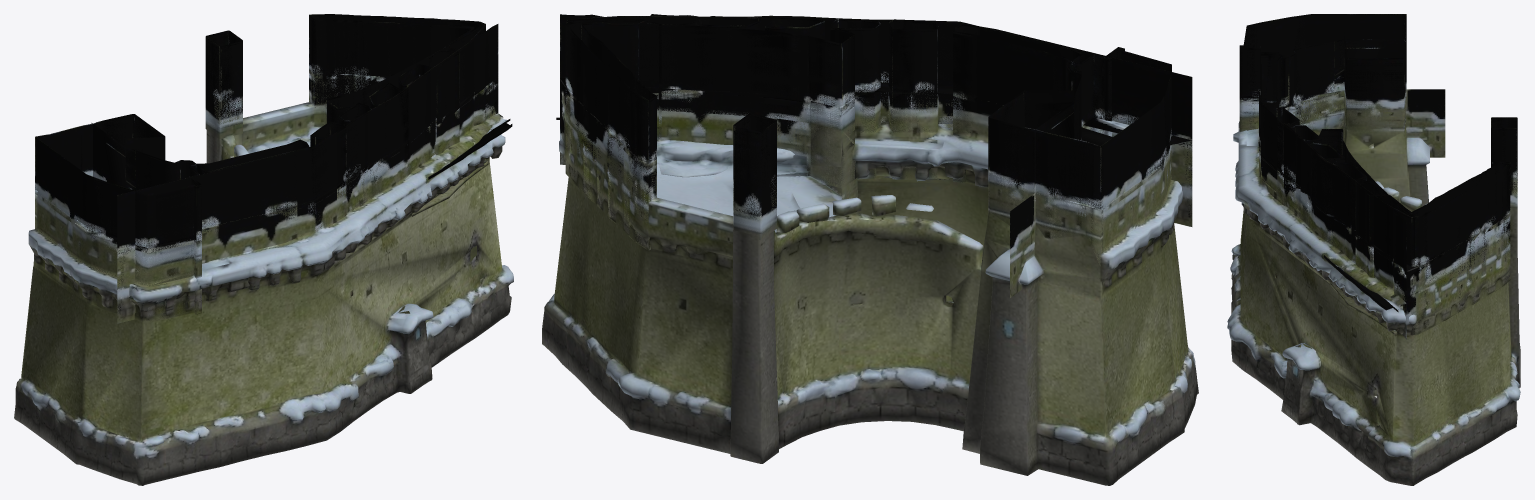
Rendered from chengqiang4.fbx.
3 renders of one model, left to right at view 1: azimuth 30°, elevation 25°; view 2: azimuth 150°, elevation 25°; view 3: azimuth 270°, elevation 25°, orthographic. The views are drawn at different scales.
Parts seen in each view (by area): view 1: tripo_node_d8bde04f; view 2: tripo_node_d8bde04f; view 3: tripo_node_d8bde04f.
Part boxes in pixels (x1,y1,x2,y2): tripo_node_d8bde04f: (14,14,513,485); tripo_node_d8bde04f: (542,14,1198,485); tripo_node_d8bde04f: (1227,14,1520,485).
Bounding box in the file's own units: 100 × 56.36 × 56.75.
Materials: 1 (1 with a texture image).
